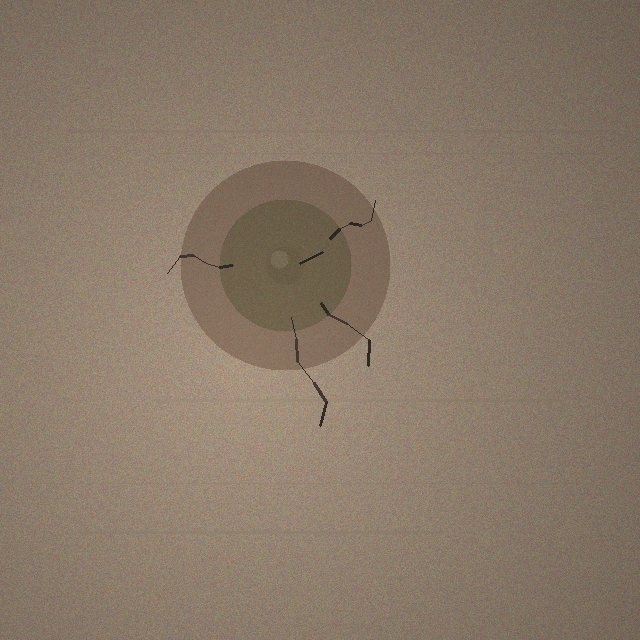crack: (180, 160, 390, 370)
